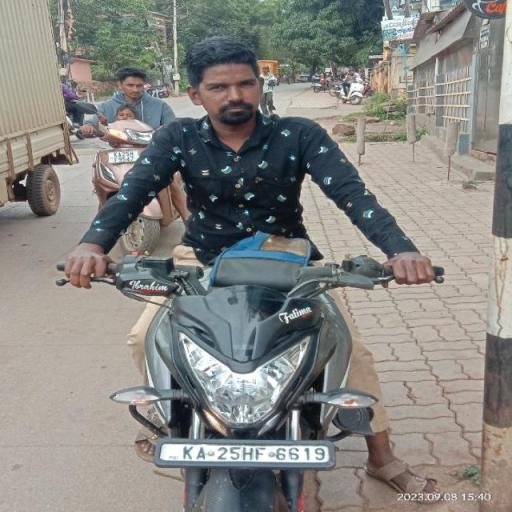bike: (46, 21, 468, 512)
numberplate: (160, 441, 334, 468)
withouthelmet: (192, 40, 266, 122)
